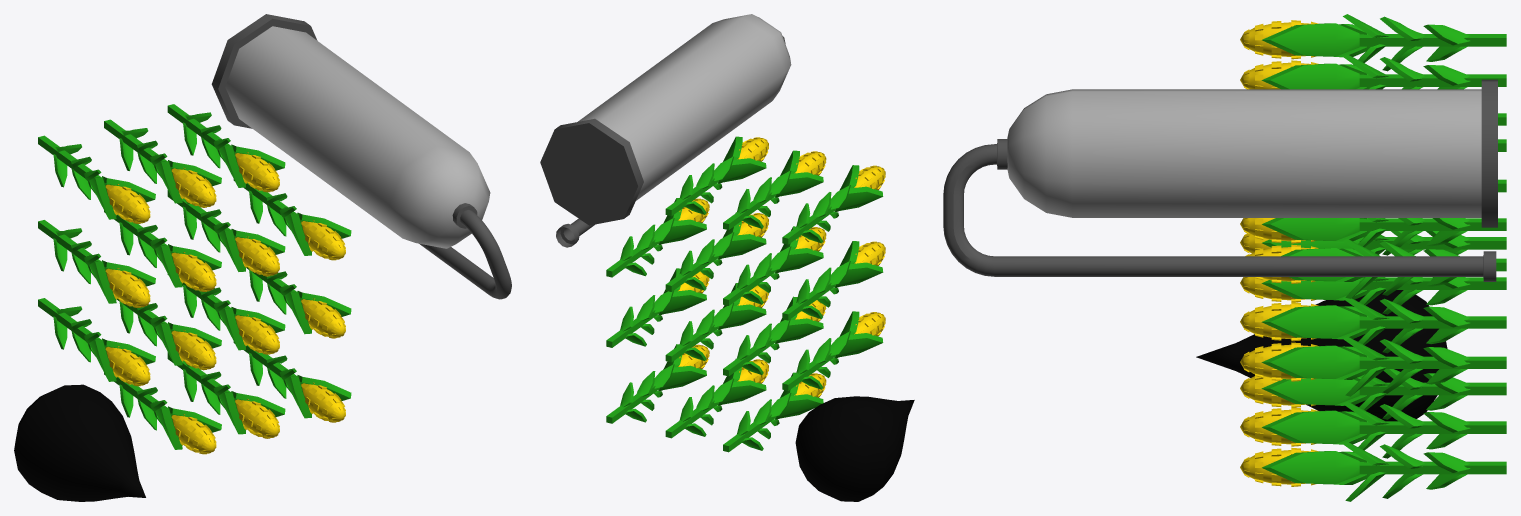
File: biofuel.obj
The picture shows the model from 3 angles, left to right: view 1: azimuth 30°, elevation 25°; view 2: azimuth 150°, elevation 25°; view 3: azimuth 270°, elevation 25°; orthographic projection. The views are drawn at different scales.
Visible parts, largest first — view 1: biofuel; view 2: biofuel; view 3: biofuel.
Boxes of the visible parts, x1,y1,x2,y2 form: biofuel: (14, 14, 511, 501); biofuel: (540, 14, 914, 501); biofuel: (943, 14, 1506, 501).
Size of the model in its own units: 7.22 by 7.78 by 8.15.
